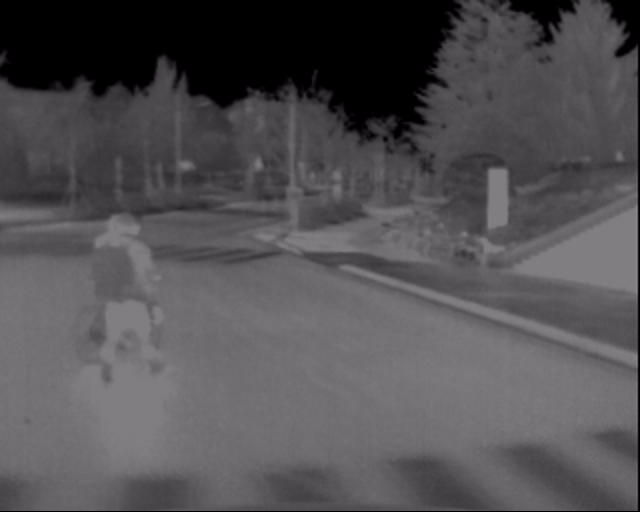person: (92, 210, 163, 411)
